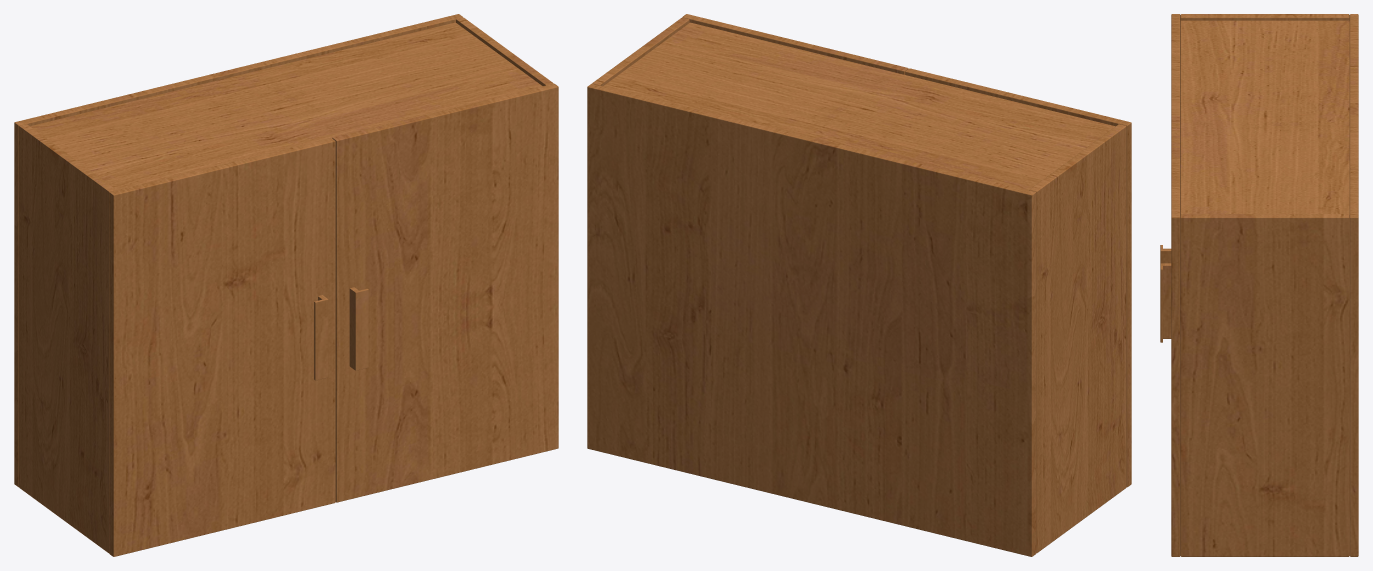
The model's file is cabinet_col2.glb.
3 renders of one model, left to right at view 1: azimuth 30°, elevation 25°; view 2: azimuth 150°, elevation 25°; view 3: azimuth 270°, elevation 25°, orthographic. The views are drawn at different scales.
Visible parts, largest first — view 1: Object_2; view 2: Object_2; view 3: Object_2.
Boxes of the visible parts, x1=… form: Object_2: x1=14, y1=14, x2=558, y2=556; Object_2: x1=587, y1=14, x2=1131, y2=556; Object_2: x1=1160, y1=14, x2=1358, y2=556.
Bounding box in the file's own units: 1.42 × 1.1 × 0.5839.
Materials: 1 (1 with a texture image).
